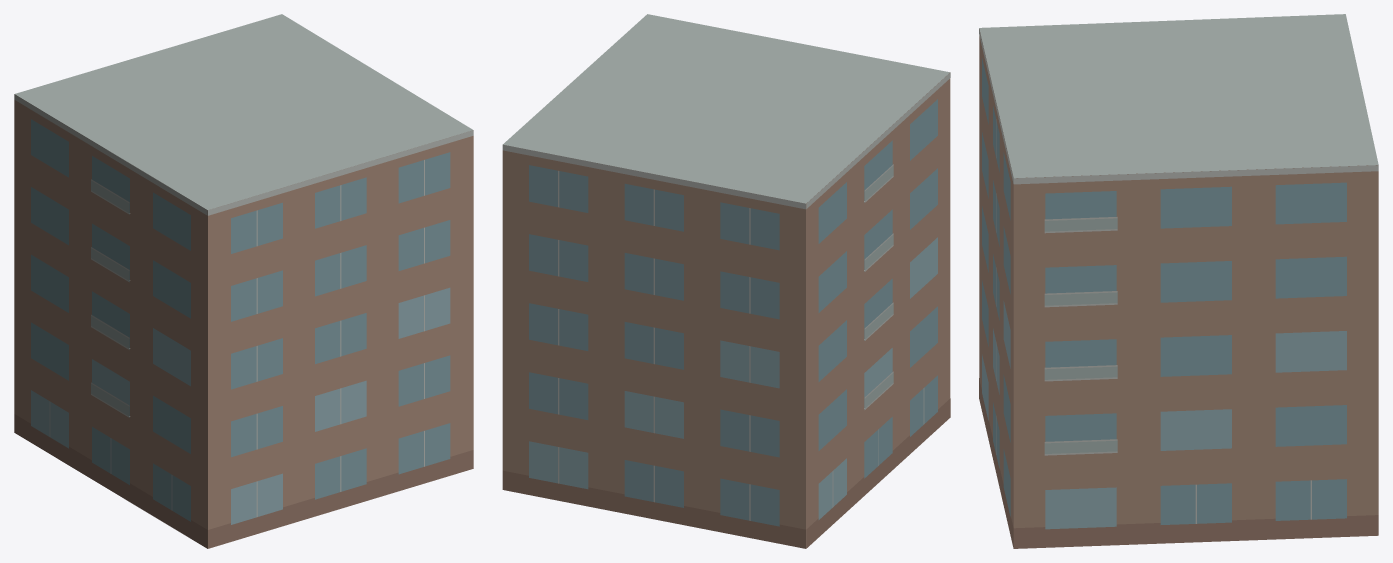
File: survey-upis-32674521.glb
3 renders of one model, left to right at view 1: azimuth 30°, elevation 25°; view 2: azimuth 150°, elevation 25°; view 3: azimuth 270°, elevation 25°, orthographic. The views are drawn at different scales.
Parts seen in each view (by area): view 1: survey-upis-32674521.tmp; view 2: survey-upis-32674521.tmp; view 3: survey-upis-32674521.tmp.
Boxes of the visible parts, x1=… form: survey-upis-32674521.tmp: x1=14, y1=14, x2=473, y2=548; survey-upis-32674521.tmp: x1=502, y1=14, x2=950, y2=548; survey-upis-32674521.tmp: x1=979, y1=14, x2=1378, y2=548.
Size of the model in its own units: 13.88 by 14.6 by 14.27.
